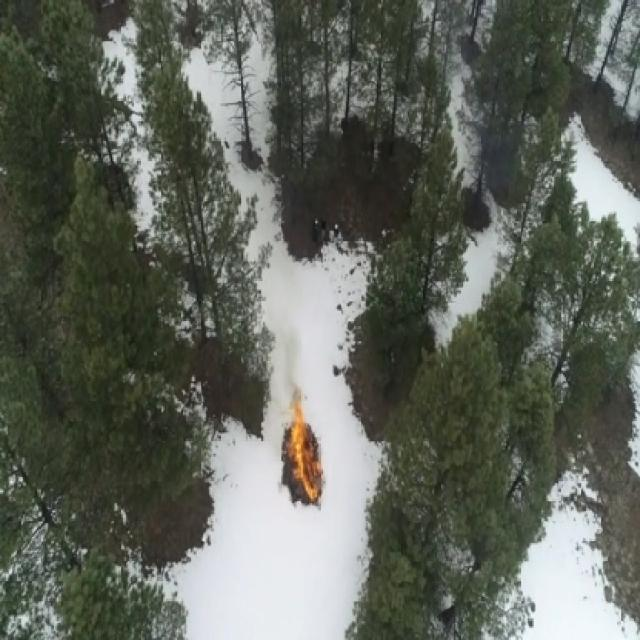Fire: (284, 385, 324, 503)
